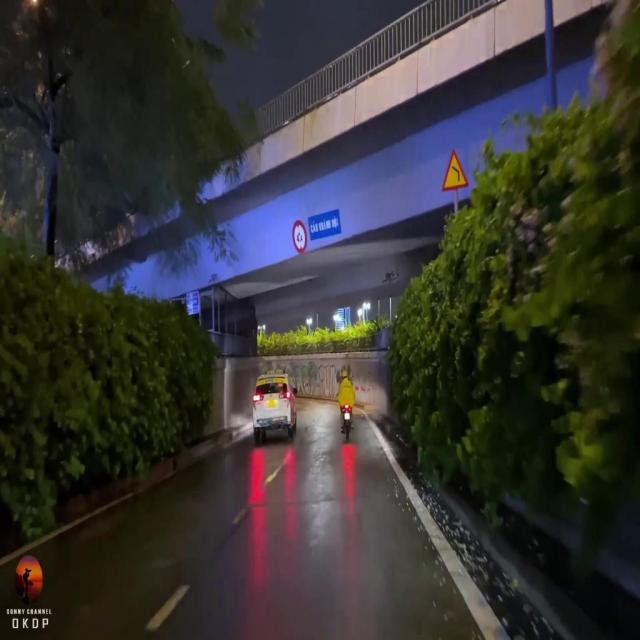cho_ngoat_nguy_hiem_ben_trai: (440, 145, 470, 193)
han_che_chieu_cao: (292, 218, 308, 252)
khac: (309, 208, 343, 243)
